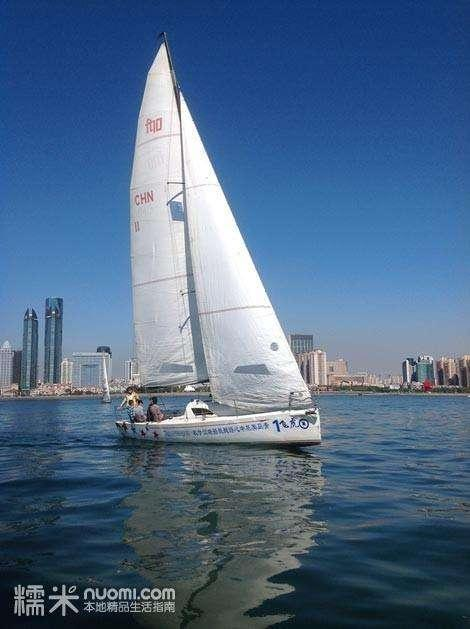fanchuan: (113, 26, 326, 445)
